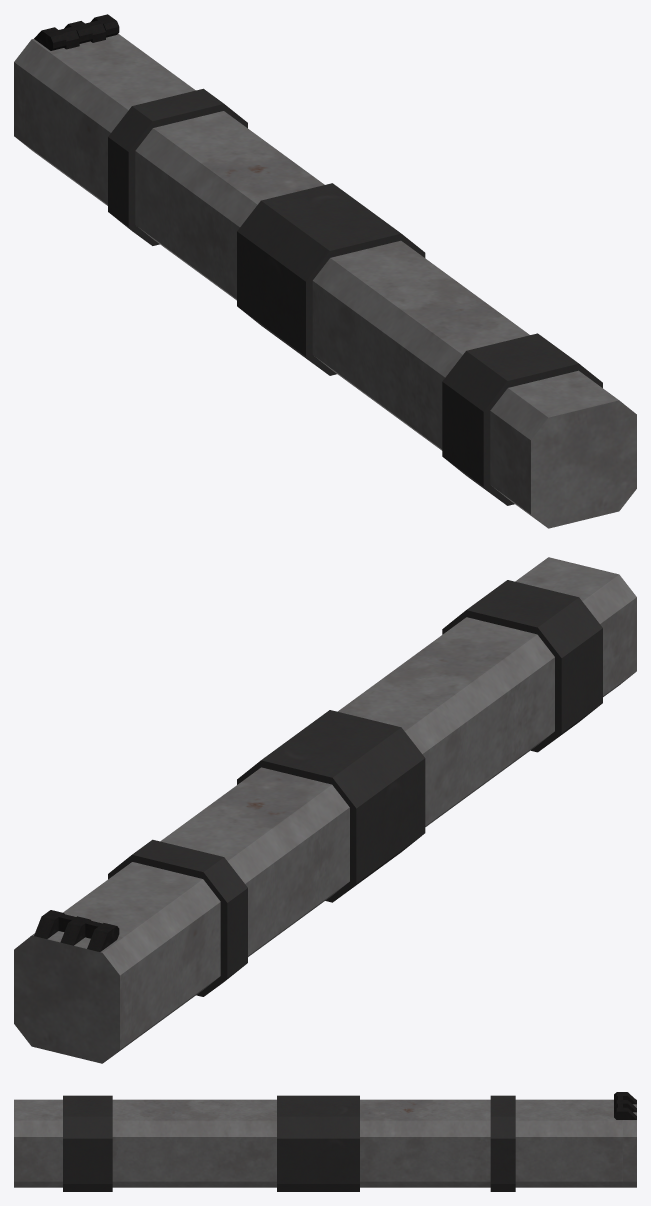
File: launcher_m_1.fbx
The picture shows the model from 3 angles, top to bottom: view 1: azimuth 30°, elevation 25°; view 2: azimuth 150°, elevation 25°; view 3: azimuth 270°, elevation 25°; orthographic projection. The views are drawn at different scales.
Visible parts, largest first — view 1: launcher_m_1, launcher_m_1C; view 2: launcher_m_1, launcher_m_1C; view 3: launcher_m_1, launcher_m_1C.
Part boxes in pixels (x1,y1,x2,y2): launcher_m_1: (25,20,636,528); launcher_m_1C: (14,14,119,155); launcher_m_1: (58,557,636,1053); launcher_m_1C: (14,910,131,1063); launcher_m_1: (14,1095,622,1191); launcher_m_1C: (614,1092,636,1187).
Bounding box in the file's own units: 1.8 × 1.9 × 13.5.
